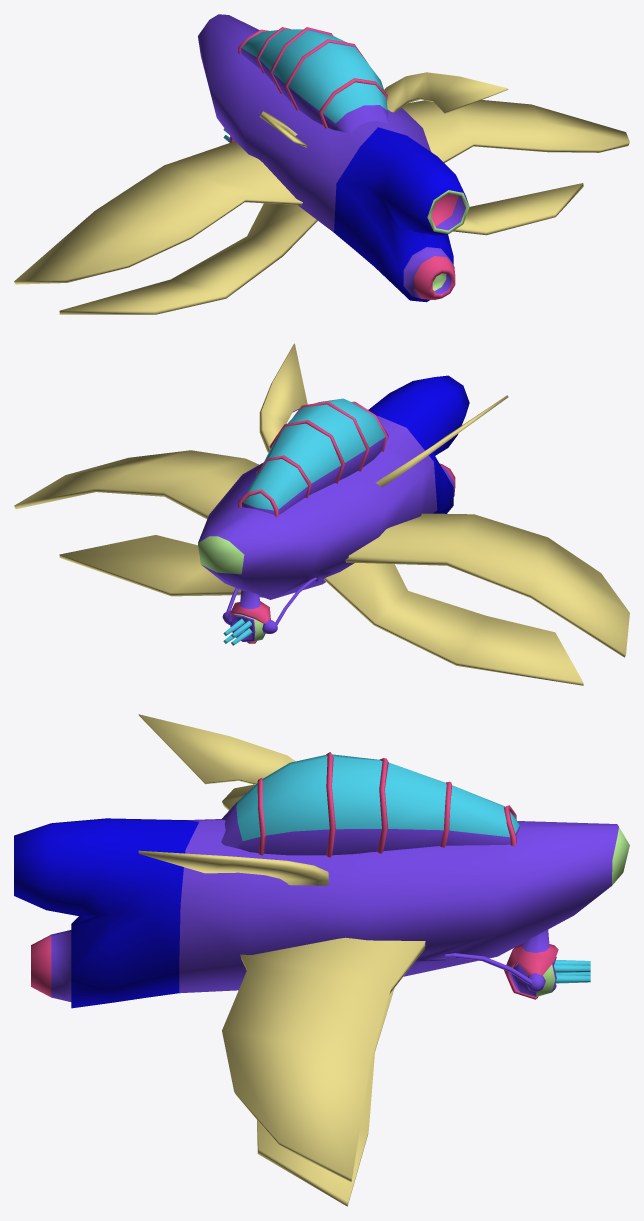
Rendered from ывсывсывс2.fbx.
3 renders of one model, top to bottom at view 1: azimuth 30°, elevation 25°; view 2: azimuth 150°, elevation 25°; view 3: azimuth 270°, elevation 25°, orthographic. The views are drawn at different scales.
Visible parts, largest first — view 1: Cube; view 2: Cube; view 3: Cube.
Boxes of the visible parts, box(x1,y1,x2,y2) form: Cube: box(14, 14, 629, 314); Cube: box(14, 343, 629, 685); Cube: box(14, 714, 629, 1206).
Bounding box in the file's own units: 849 × 291 × 563.
